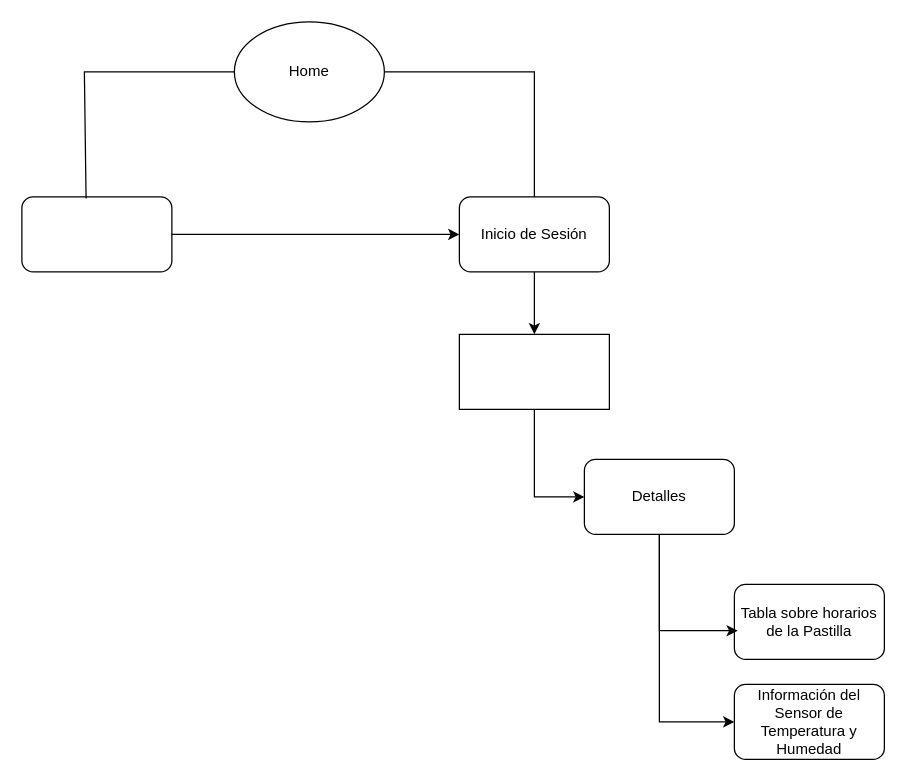
The diagram is 906 pixels wide and 781 high, and some of its shapes have lost their labels. Here are the shapes that lost their labels. From the top down, the centre of each, then its label:
At point 96,234: "Registro".
At point 533,371: "Dashboard".
